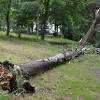Downstairs: (1, 7, 100, 90)
